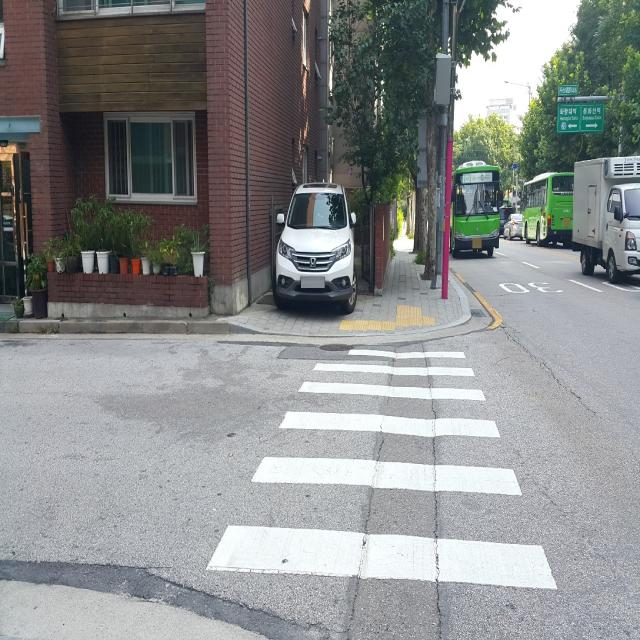횡단보도: (202, 342, 560, 596)
